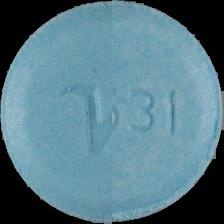42549-534: (0, 0, 224, 224)
